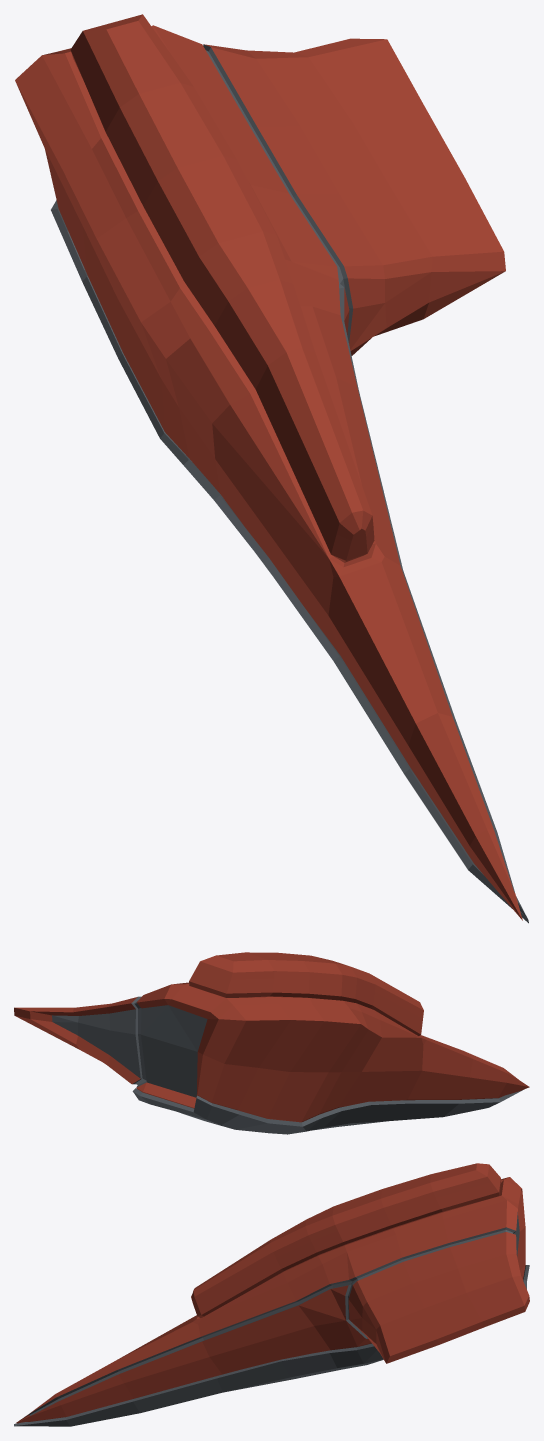
Rendered from Fighter_03_Wing_Bottom_Left_Red.fbx.
3 renders of one model, top to bottom at view 1: azimuth 30°, elevation 25°; view 2: azimuth 150°, elevation 25°; view 3: azimuth 270°, elevation 25°, orthographic. The views are drawn at different scales.
Visible parts, largest first — view 1: Fighter_03_Wing_Bottom_Left_Red; view 2: Fighter_03_Wing_Bottom_Left_Red; view 3: Fighter_03_Wing_Bottom_Left_Red.
Part boxes in pixels (x1,y1,x2,y2): Fighter_03_Wing_Bottom_Left_Red: (15,14,528,923); Fighter_03_Wing_Bottom_Left_Red: (14,952,529,1134); Fighter_03_Wing_Bottom_Left_Red: (14,1163,529,1426).
Size of the model in its own units: 354 by 440 by 752.
2 materials, 2 textured.
